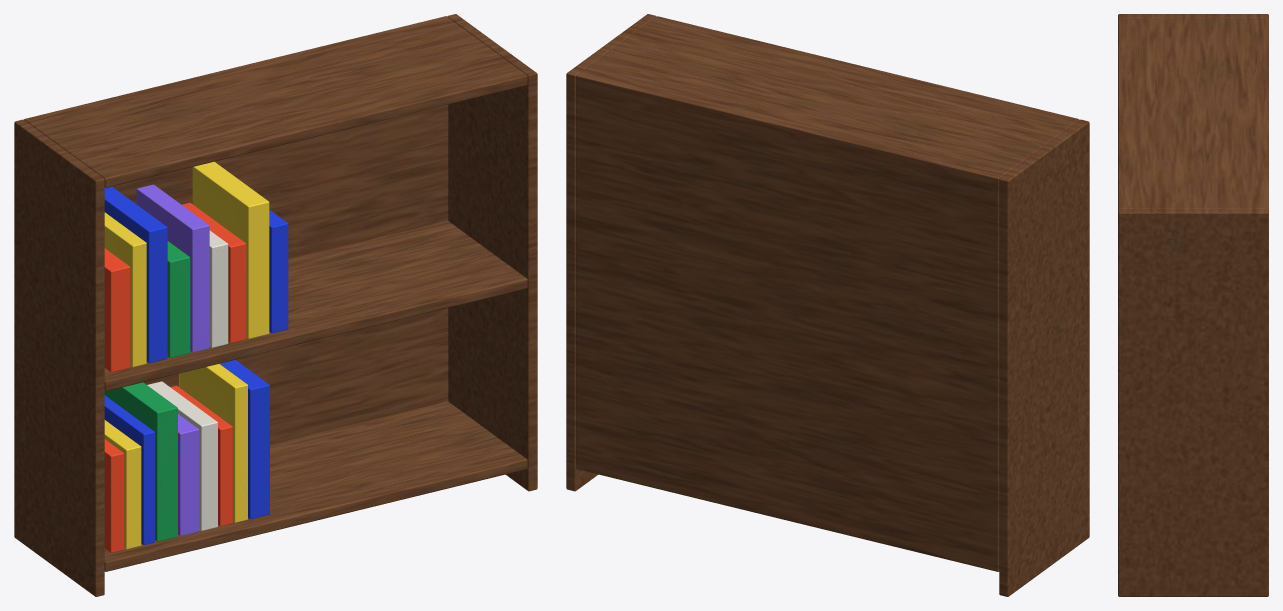
File: bookcase.glb
The picture shows the model from 3 angles, left to right: view 1: azimuth 30°, elevation 25°; view 2: azimuth 150°, elevation 25°; view 3: azimuth 270°, elevation 25°; orthographic projection. The views are drawn at different scales.
Visible parts, largest first — view 1: Cube; view 2: Cube; view 3: Cube.
Part boxes in pixels (<box>): Cube: <box>14,14,537,596</box>; Cube: <box>566,14,1089,596</box>; Cube: <box>1118,14,1268,596</box>.
Size of the model in its own units: 1 by 0.9 by 0.32.
Materials: 1 (1 with a texture image).
